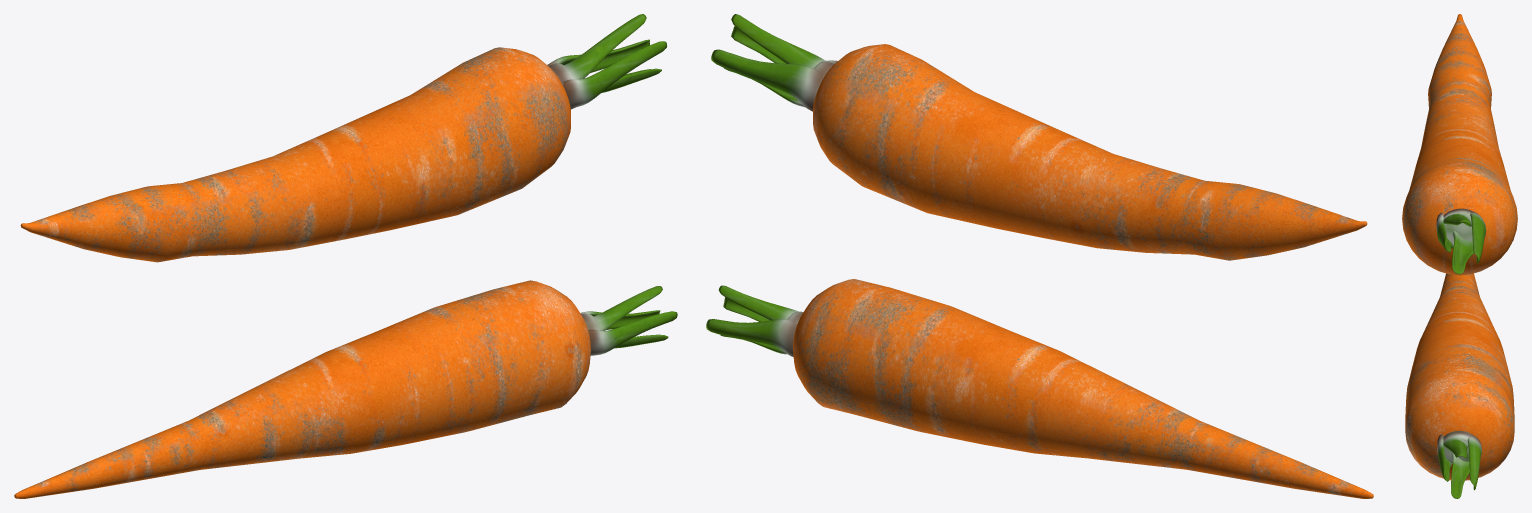
The model's file is Carrot.fbx.
3 renders of one model, left to right at view 1: azimuth 30°, elevation 25°; view 2: azimuth 150°, elevation 25°; view 3: azimuth 270°, elevation 25°, orthographic. The views are drawn at different scales.
Parts seen in each view (by area): view 1: Carrot2, Carrot1; view 2: Carrot2, Carrot1; view 3: Carrot2, Carrot1.
Boxes of the visible parts, x1,y1,x2,y2 form: Carrot2: (20,14,666,262); Carrot1: (14,280,677,498); Carrot2: (711,14,1367,260); Carrot1: (706,279,1373,498); Carrot2: (1402,14,1517,275); Carrot1: (1405,273,1514,498).
Bounding box in the file's own units: 101 × 53.79 × 18.64.
